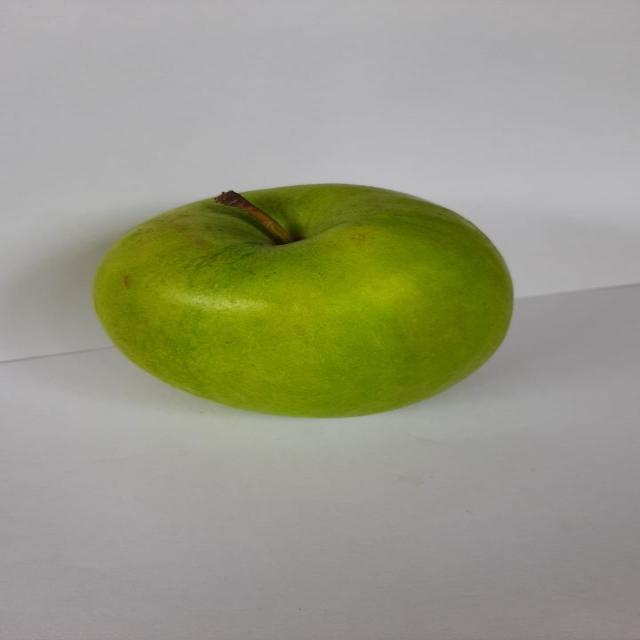50-_ripeness: (64, 173, 530, 425)
